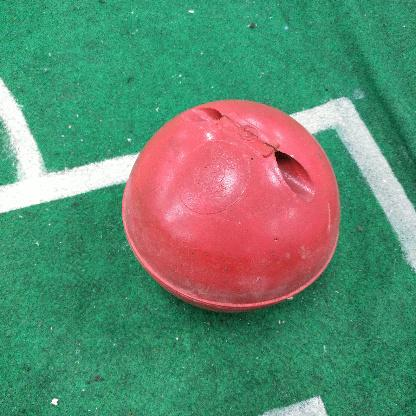red_buoy: (120, 92, 343, 324)
